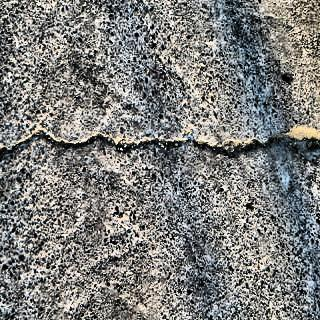crack: (0, 122, 319, 169)
